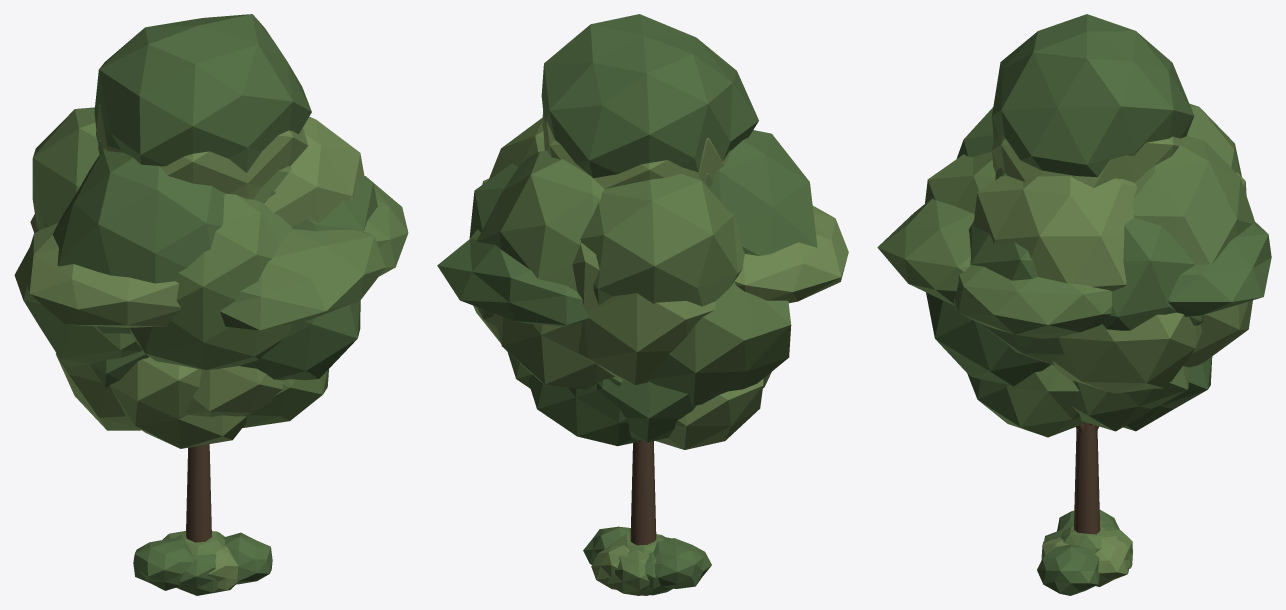
Rendered from city-flora.glb.
3 views of the same model, side by side, from view 1: azimuth 30°, elevation 25°; view 2: azimuth 150°, elevation 25°; view 3: azimuth 270°, elevation 25° (orthographic). The views are drawn at different scales.
Parts seen in each view (by area): view 1: park-tree-a, umbrella-pine-a, park-tree-c, street-tree-a, park-tree-b, street-tree-b, hedge-segment, shrub-a, shrub-b; view 2: park-tree-a, park-tree-b, umbrella-pine-a, park-tree-c, street-tree-a, street-tree-b, hedge-segment, shrub-b, shrub-a; view 3: park-tree-a, umbrella-pine-a, park-tree-c, park-tree-b, street-tree-a, hedge-segment, street-tree-b, shrub-a.
Boxes of the visible parts, left/top/right/bottom form: park-tree-a: left=32, top=14, right=364, bottom=542; umbrella-pine-a: left=23, top=176, right=408, bottom=330; park-tree-c: left=30, top=104, right=377, bottom=369; street-tree-a: left=56, top=353, right=328, bottom=448; park-tree-b: left=14, top=140, right=360, bottom=380; street-tree-b: left=89, top=350, right=282, bottom=416; hedge-segment: left=133, top=531, right=272, bottom=590; shrub-a: left=162, top=531, right=238, bottom=593; shrub-b: left=163, top=531, right=218, bottom=595; park-tree-a: left=476, top=14, right=817, bottom=595; park-tree-b: left=473, top=173, right=791, bottom=405; umbrella-pine-a: left=437, top=178, right=848, bottom=326; park-tree-c: left=469, top=110, right=731, bottom=384; street-tree-a: left=528, top=372, right=771, bottom=449; street-tree-b: left=507, top=352, right=696, bottom=442; hedge-segment: left=583, top=526, right=711, bottom=589; shrub-b: left=606, top=536, right=671, bottom=595; shrub-a: left=611, top=533, right=672, bottom=595; park-tree-a: left=956, top=14, right=1255, bottom=534; umbrella-pine-a: left=877, top=198, right=1271, bottom=338; park-tree-c: left=925, top=132, right=1246, bottom=364; park-tree-b: left=926, top=167, right=1252, bottom=393; street-tree-a: left=967, top=356, right=1212, bottom=437; hedge-segment: left=1037, top=510, right=1129, bottom=595; street-tree-b: left=1071, top=366, right=1189, bottom=431; shrub-a: left=1041, top=524, right=1116, bottom=559.
Bounding box in the file's own units: 8.85 × 12.92 × 8.42.
